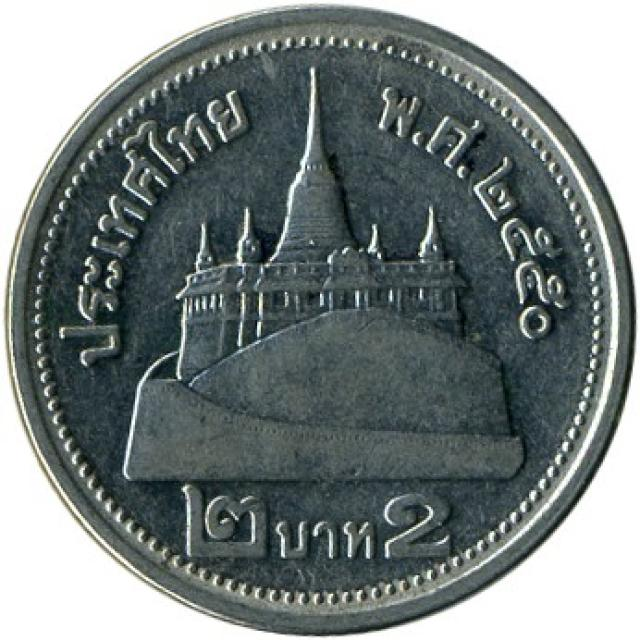2 Bath: (4, 2, 640, 640)
